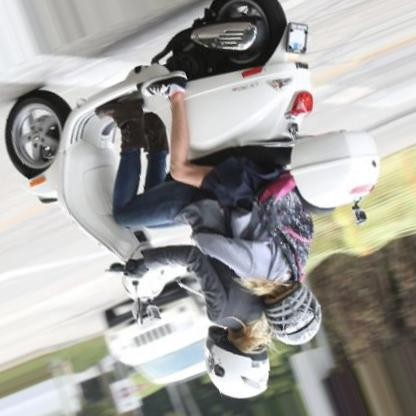with helmet: (204, 325, 271, 399), (263, 276, 324, 349)
